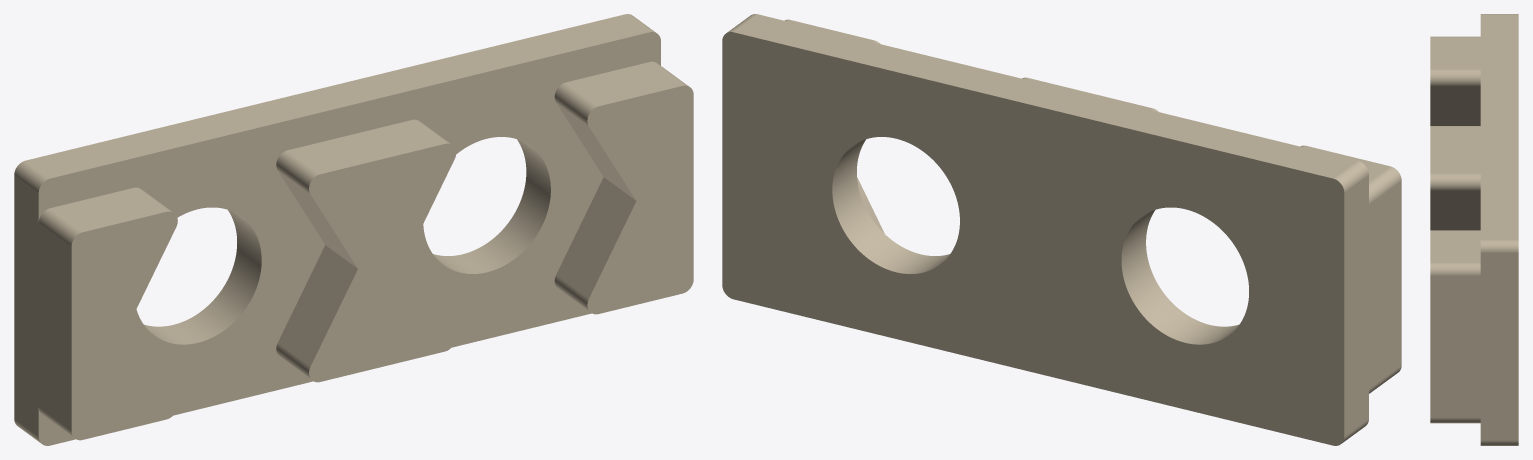
File: nut_holder.glb
3 renders of one model, left to right at view 1: azimuth 30°, elevation 25°; view 2: azimuth 150°, elevation 25°; view 3: azimuth 270°, elevation 25°, orthographic. The views are drawn at different scales.
Parts seen in each view (by area): view 1: nut_holder; view 2: nut_holder; view 3: nut_holder.
Boxes of the visible parts, bbox=[...] form: nut_holder: bbox=[14, 14, 693, 445]; nut_holder: bbox=[722, 14, 1401, 445]; nut_holder: bbox=[1430, 14, 1518, 445].
Size of the model in its own units: 21.94 by 9 by 3.5.
